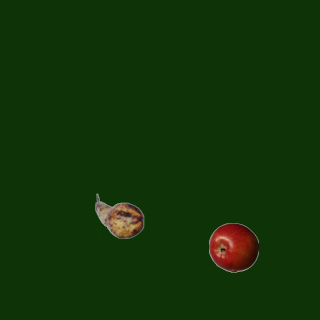Apple Braeburn: (208, 222, 258, 272)
Pear Abate: (94, 191, 144, 241)
